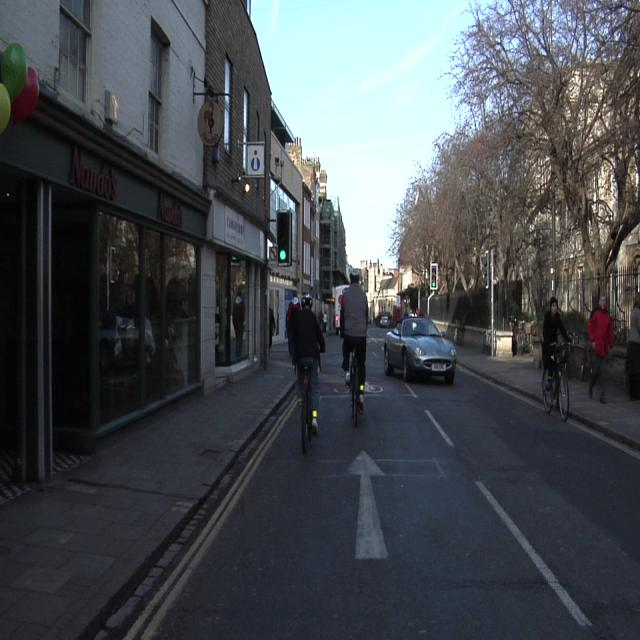Bicyclist: (291, 295, 325, 450), (341, 269, 367, 423), (542, 298, 570, 419)
Building: (2, 0, 347, 478)
Car: (385, 317, 455, 381)
Road: (153, 329, 636, 637)
Tree: (398, 2, 639, 290)
person: (588, 296, 614, 401), (626, 301, 639, 395)
